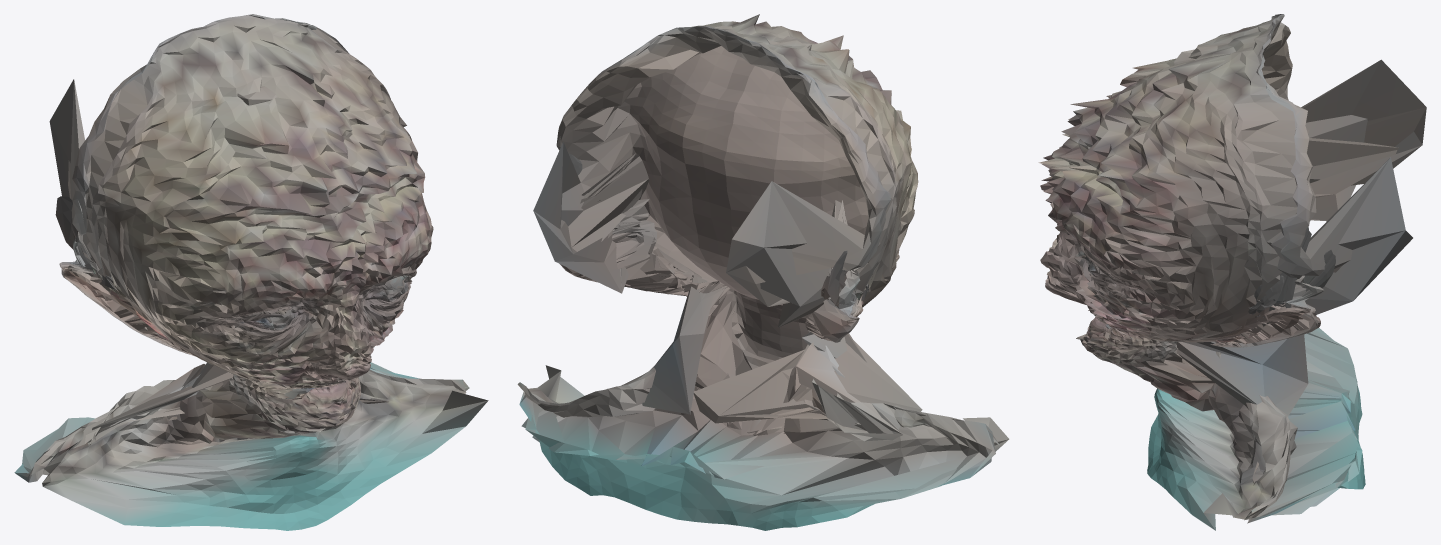
File: chibi_textured_mesh.obj
3 views of the same model, side by side, from view 1: azimuth 30°, elevation 25°; view 2: azimuth 150°, elevation 25°; view 3: azimuth 270°, elevation 25° (orthographic). The views are drawn at different scales.
Bounding box in the file's own units: 0.327 × 0.3176 × 0.258.
